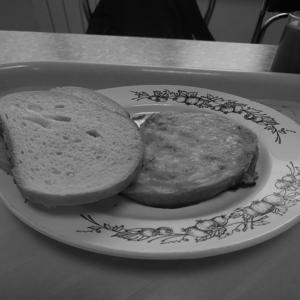bread: (4, 66, 138, 219)
cheese_sandwich: (121, 80, 263, 218)
